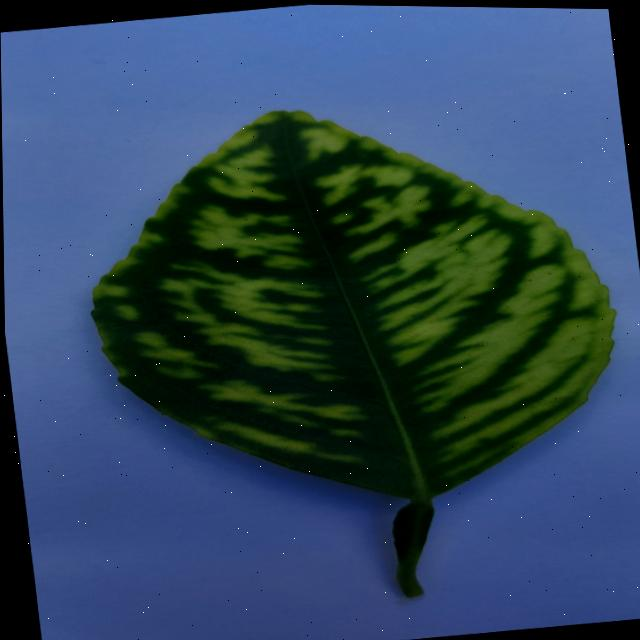greening: (92, 111, 613, 597)
